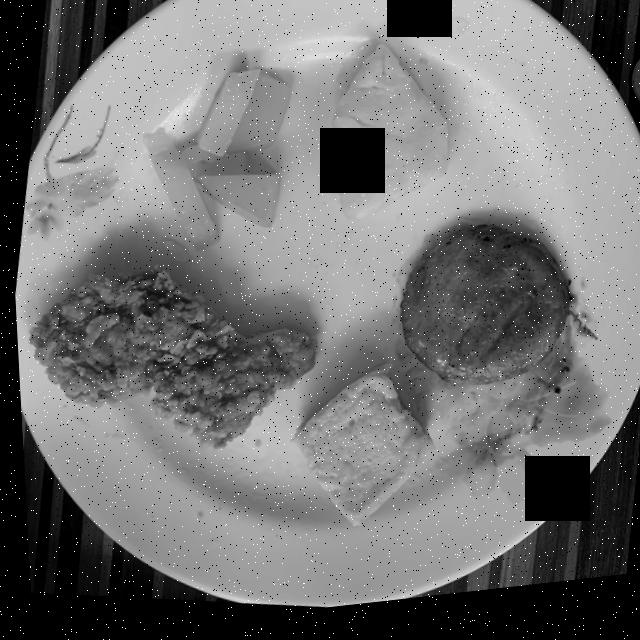coin: (630, 73, 640, 118)
creamy tofu -without sauce-: (288, 372, 430, 534)
fish cake: (396, 236, 567, 396)
fried chicken cutlet: (26, 269, 314, 453)
pineapple: (331, 54, 446, 228)
